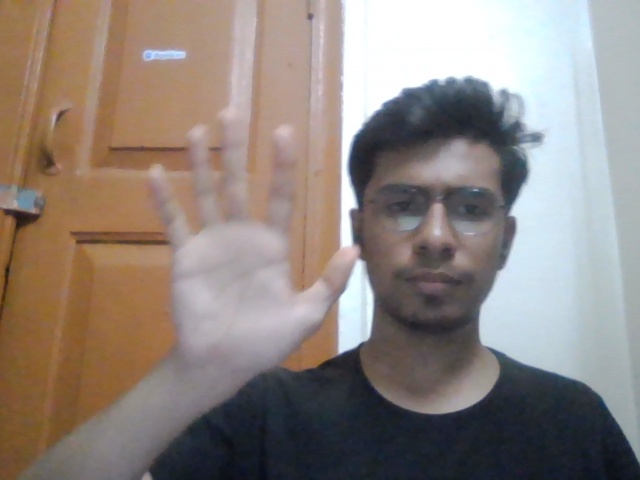Hello: (127, 94, 364, 387)
